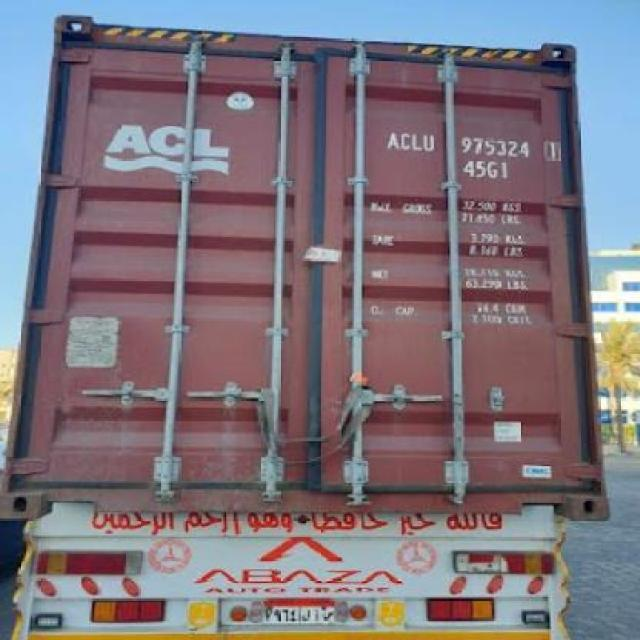ISO: (459, 160, 511, 180)
container_number: (387, 133, 556, 157)
